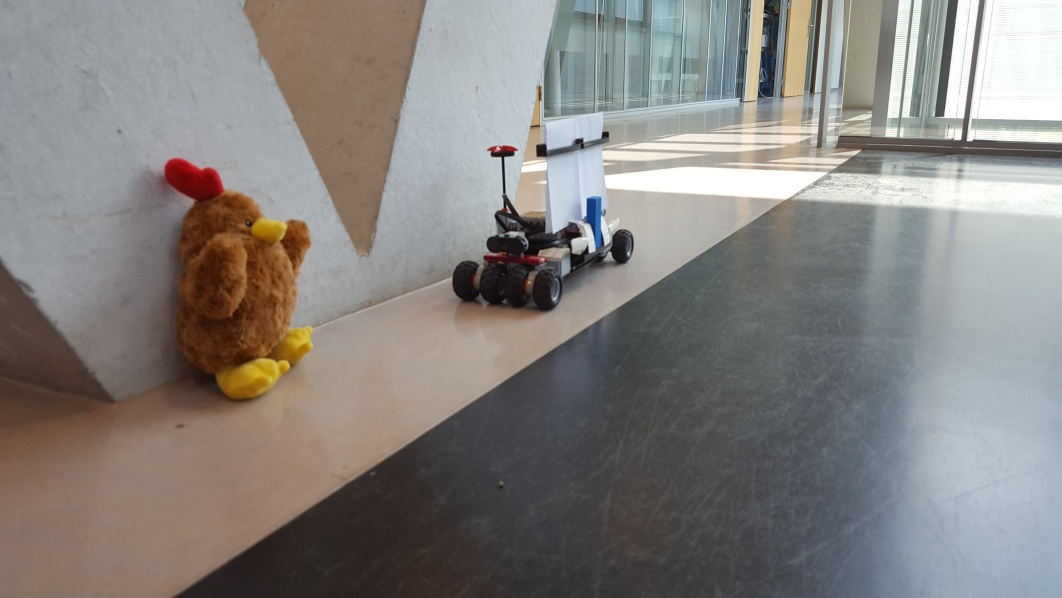beam: (582, 193, 606, 249)
chicken: (163, 155, 316, 402)
